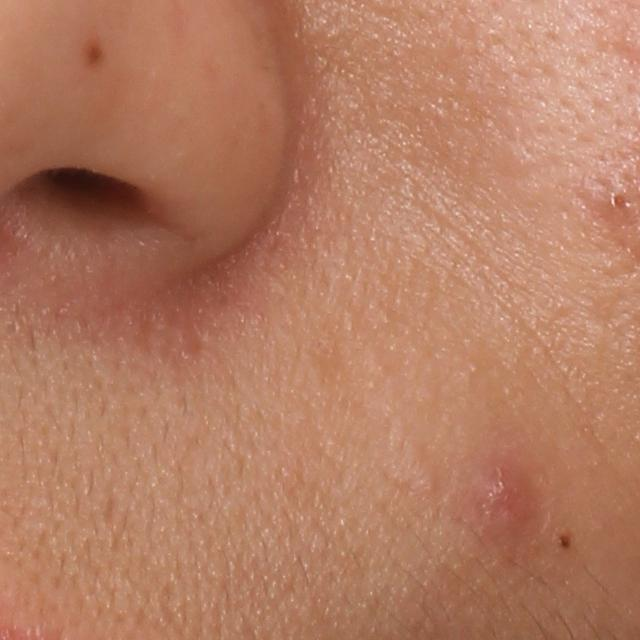nevus: (82, 38, 108, 69)
papule: (462, 464, 544, 544)
